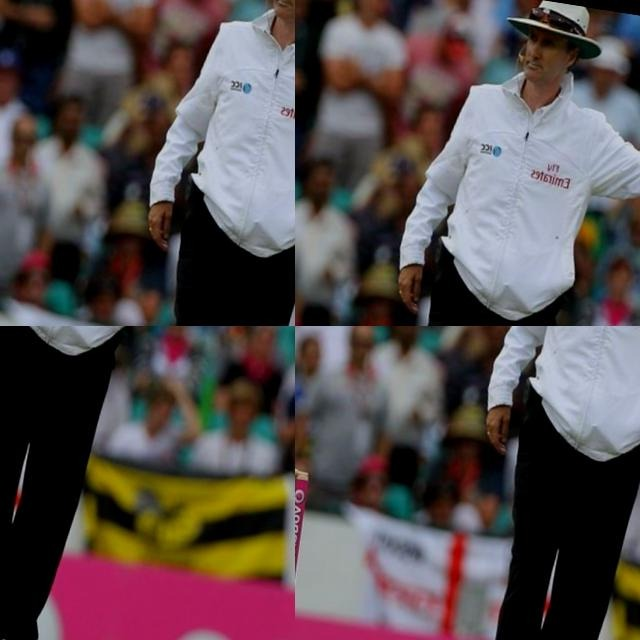No_Ball: (0, 326, 295, 640)
Out: (554, 43, 640, 222)
Six: (194, 0, 295, 165)
Wide: (524, 326, 640, 452)
